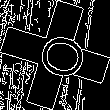O_W: (24, 27, 86, 83)
